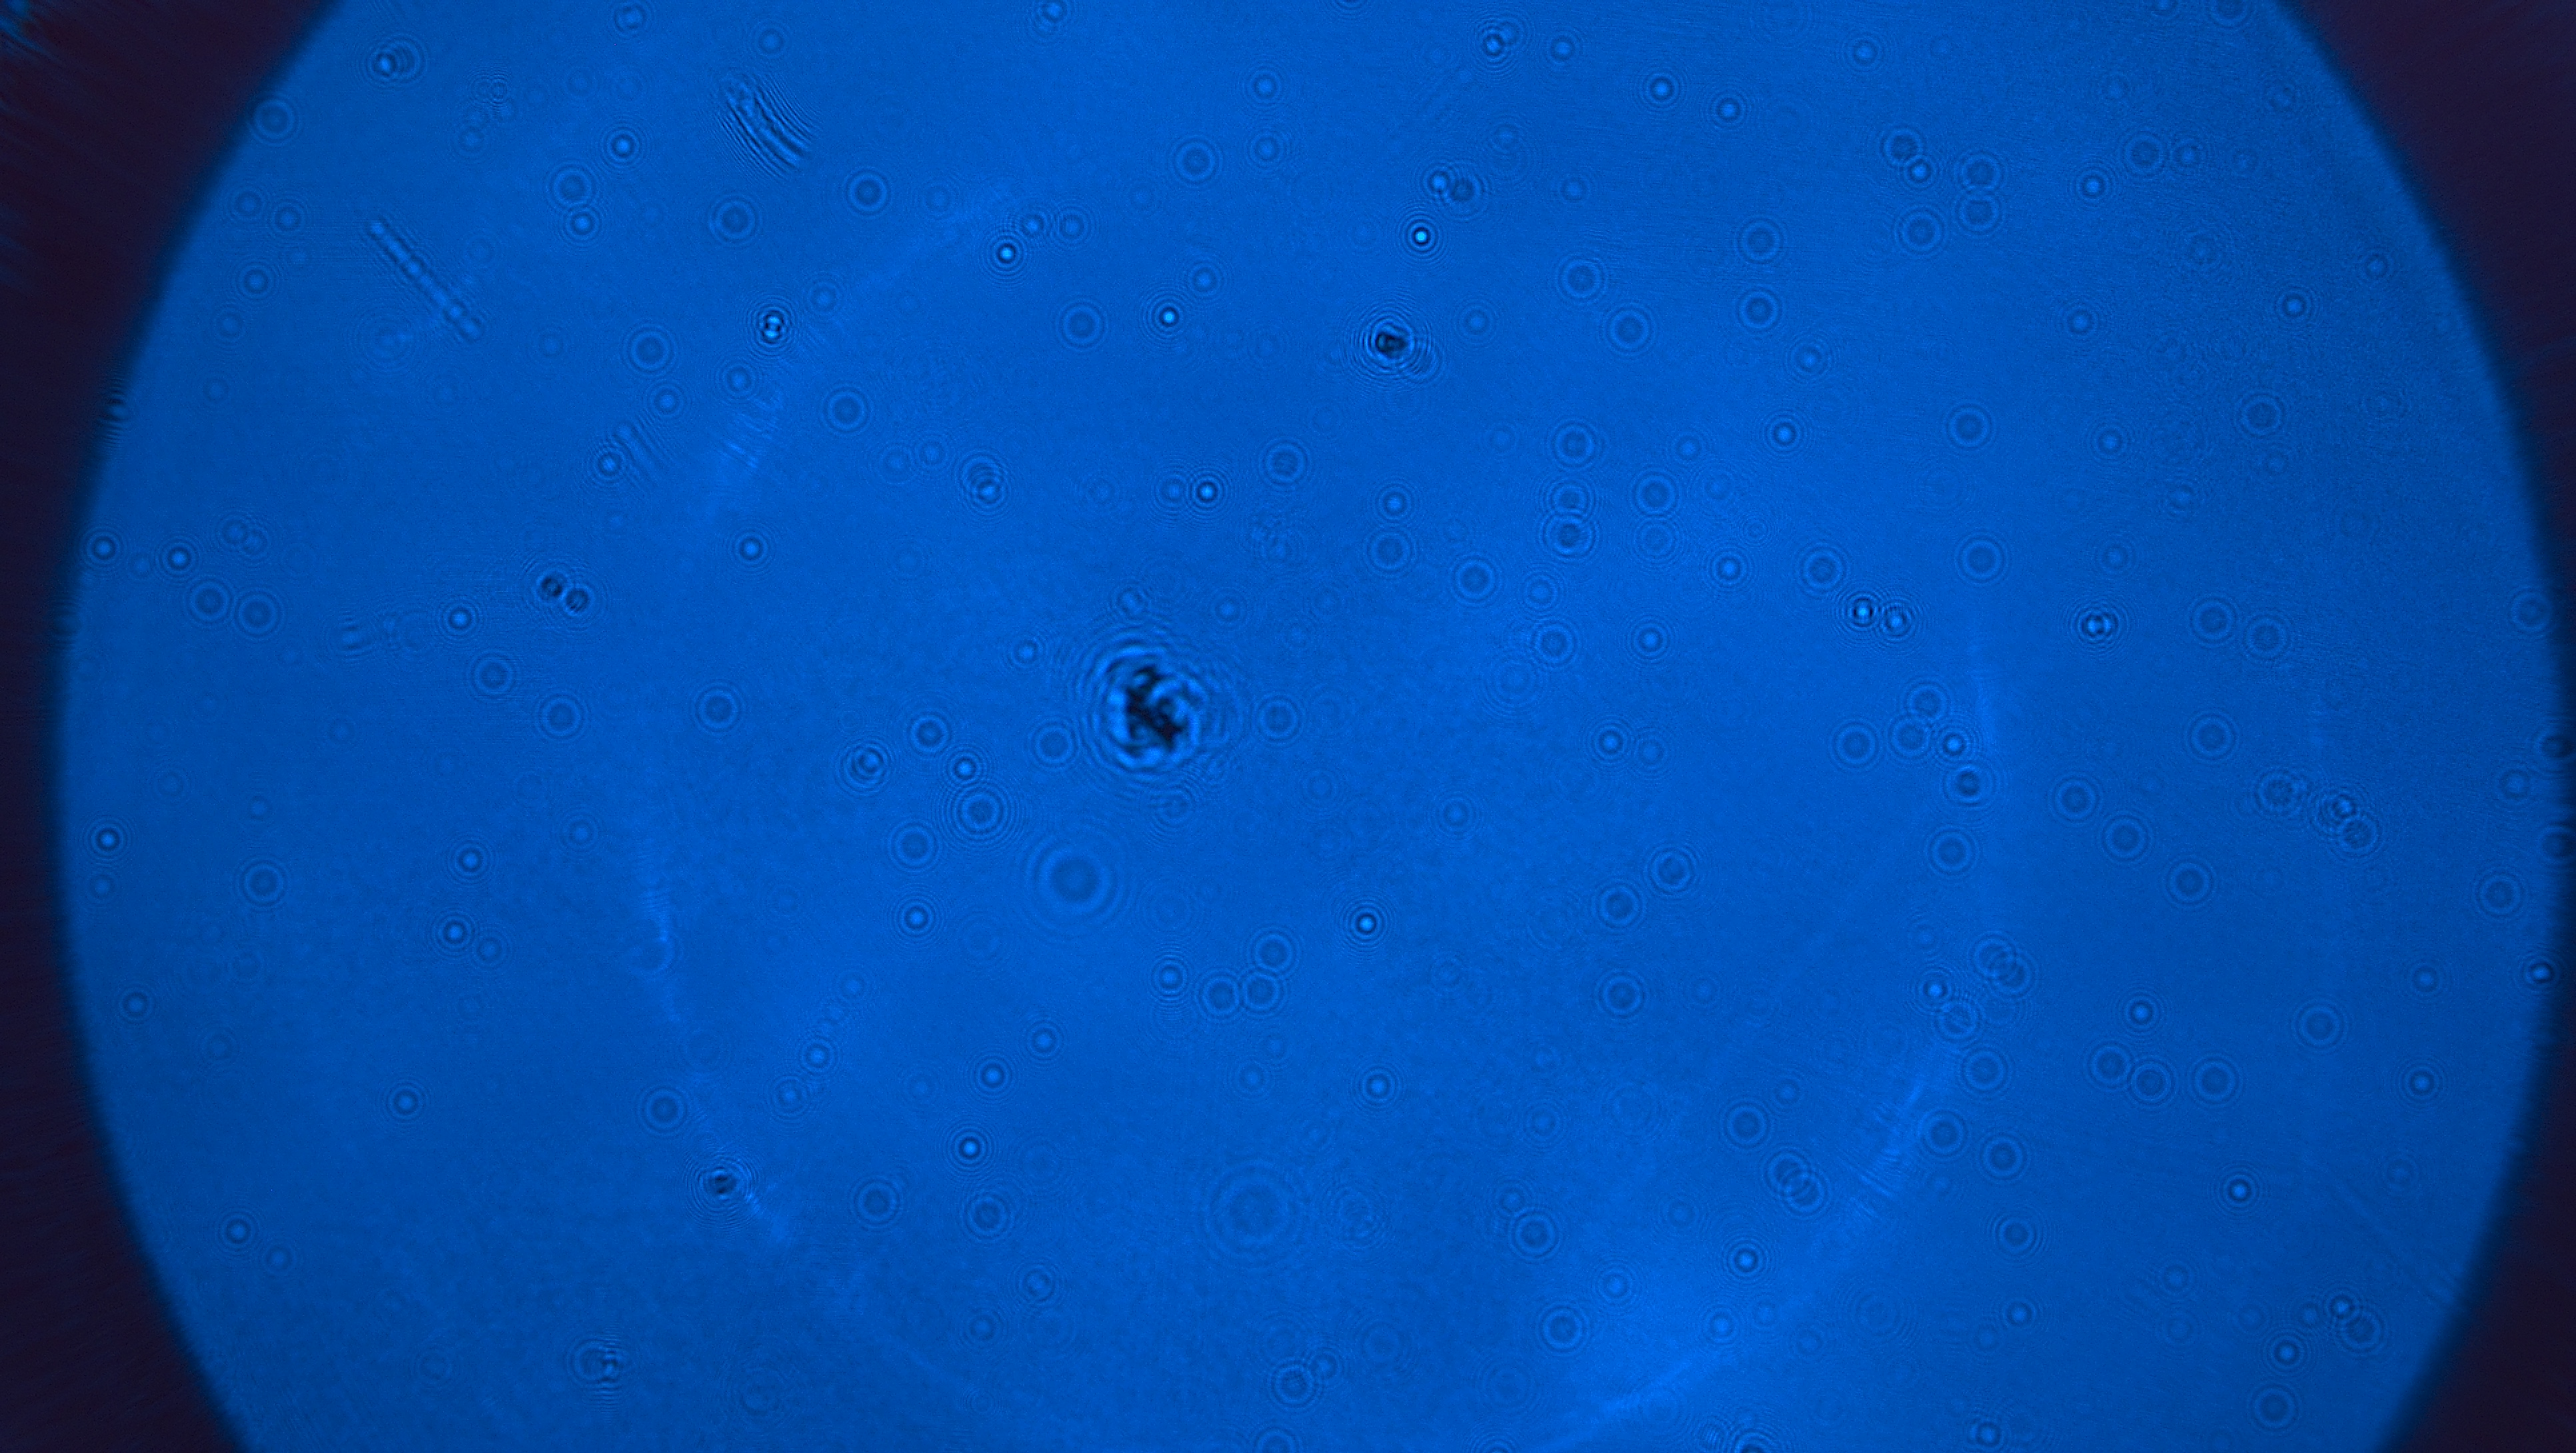bead: (239, 83, 308, 154), (1752, 1136, 1822, 1205), (1583, 869, 1652, 940), (1638, 835, 1709, 904), (2286, 989, 2355, 1058), (2075, 1030, 2146, 1097), (177, 568, 244, 639), (1532, 503, 1605, 568), (538, 150, 605, 219), (2178, 586, 2247, 653), (2231, 602, 2300, 669), (2178, 704, 2247, 772), (2243, 757, 2312, 825), (2240, 1373, 2307, 1442), (1587, 959, 1654, 1028), (628, 1072, 697, 1140), (368, 25, 433, 96), (2465, 860, 2535, 926), (2120, 1046, 2185, 1117), (1502, 1198, 1568, 1269), (701, 184, 768, 251), (1789, 534, 1856, 602), (2155, 848, 2222, 915), (1877, 703, 1944, 770), (1918, 818, 1985, 885), (1951, 1037, 2019, 1104), (2042, 766, 2111, 832), (1228, 956, 1293, 1025), (561, 1327, 625, 1398), (2227, 382, 2295, 448), (1548, 246, 1615, 311), (2498, 579, 2565, 644), (1893, 667, 1959, 734), (2181, 1046, 2247, 1113), (1925, 986, 1990, 1053), (1969, 1124, 2035, 1191), (1240, 919, 1307, 984), (1246, 687, 1313, 752), (1023, 710, 1088, 777), (685, 674, 750, 742), (225, 580, 290, 648), (230, 848, 295, 915), (2112, 122, 2178, 188), (1049, 290, 1115, 356), (1539, 411, 1605, 476), (1442, 545, 1507, 611), (1948, 524, 2013, 589), (2091, 805, 2157, 871), (1960, 924, 2026, 989), (1773, 1159, 1838, 1225), (462, 642, 527, 708), (1714, 1090, 1778, 1157), (1530, 1294, 1594, 1361), (828, 738, 895, 802), (883, 811, 950, 874), (844, 1170, 911, 1234), (1937, 395, 2001, 460), (1596, 296, 1660, 361), (814, 377, 878, 442), (617, 317, 681, 382), (1253, 428, 1316, 494), (2327, 803, 2392, 867), (954, 1184, 1017, 1249), (1164, 129, 1228, 193), (1948, 142, 2012, 205), (1624, 462, 1688, 526), (1982, 943, 2045, 1007), (947, 442, 1012, 504), (1523, 611, 1585, 676), (1824, 711, 1886, 777), (2327, 1301, 2392, 1363), (1261, 1350, 1327, 1412), (1890, 198, 1951, 262), (1729, 209, 1790, 273), (1359, 517, 1421, 580), (1913, 1103, 1974, 1166), (529, 687, 593, 749), (1191, 961, 1251, 1026), (1948, 182, 2012, 242), (1389, 331, 1453, 391), (837, 161, 899, 221), (2194, 0, 2263, 41), (1242, 1416, 1311, 1453)
